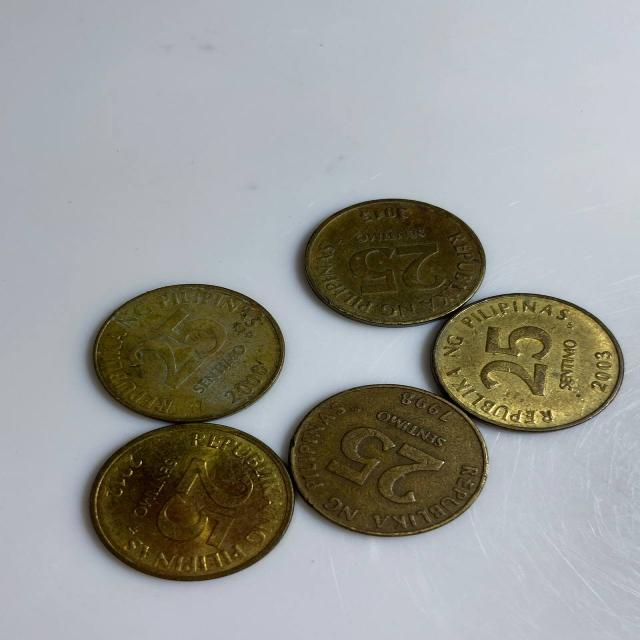25Cent_Old_Front: (331, 425, 447, 506), (123, 308, 227, 385), (162, 461, 254, 547), (346, 242, 454, 298), (481, 321, 553, 398)
